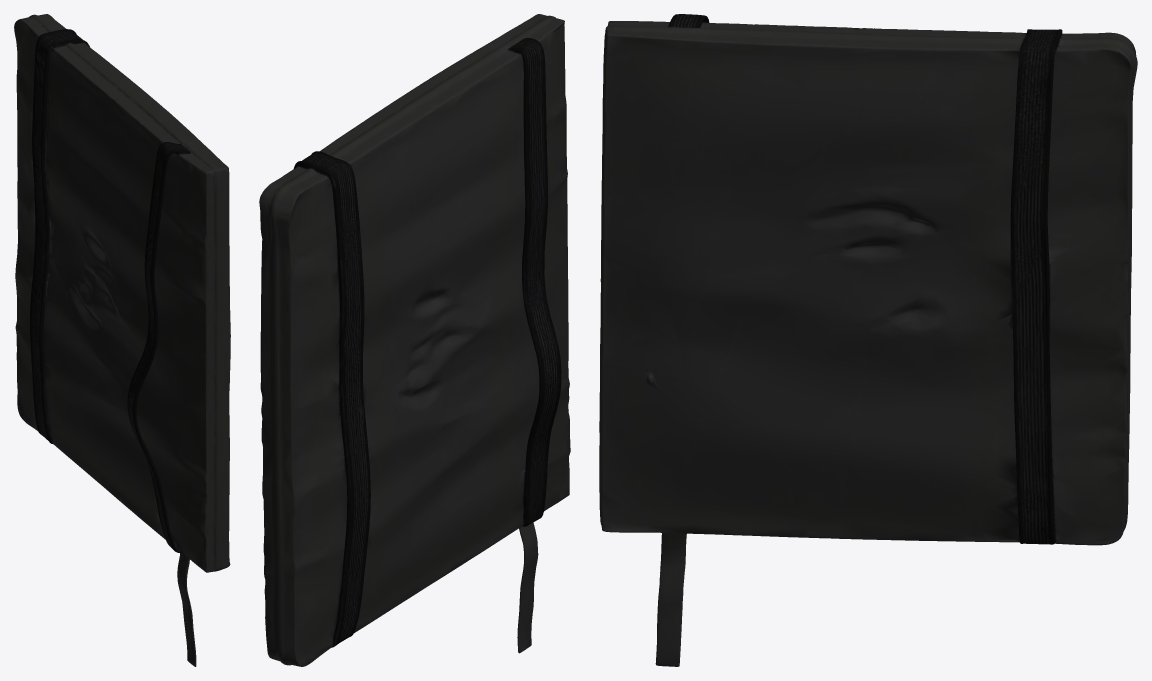
3 views of the same model, side by side, from view 1: azimuth 30°, elevation 25°; view 2: azimuth 150°, elevation 25°; view 3: azimuth 270°, elevation 25° (orthographic). The views are drawn at different scales.
Parts seen in each view (by area): view 1: tripo_node_7cafc7d9-7c35-416d-b484-4f61f7476a79; view 2: tripo_node_7cafc7d9-7c35-416d-b484-4f61f7476a79; view 3: tripo_node_7cafc7d9-7c35-416d-b484-4f61f7476a79.
Boxes of the visible parts, box(x1,y1,x2,y2) form: tripo_node_7cafc7d9-7c35-416d-b484-4f61f7476a79: box(14, 14, 230, 666); tripo_node_7cafc7d9-7c35-416d-b484-4f61f7476a79: box(259, 14, 570, 666); tripo_node_7cafc7d9-7c35-416d-b484-4f61f7476a79: box(599, 14, 1137, 666).
Bounding box in the file's own units: 0.1876 × 1 × 0.7574.
1 material, 1 textured.
